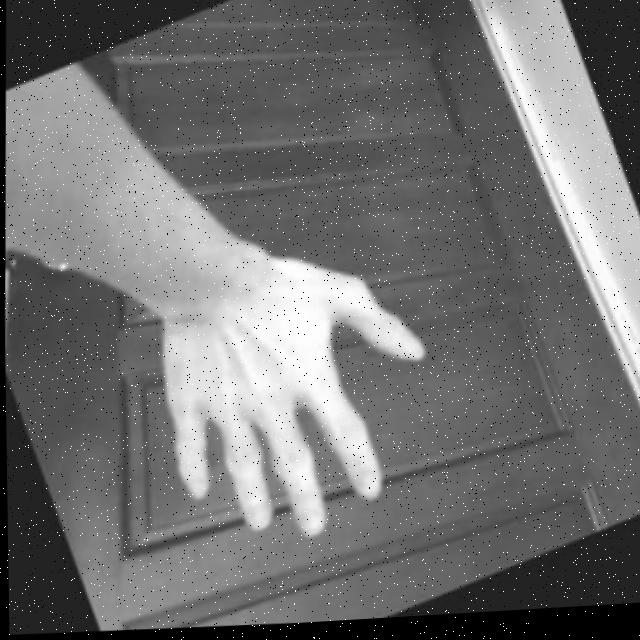hand: (152, 230, 432, 554)
